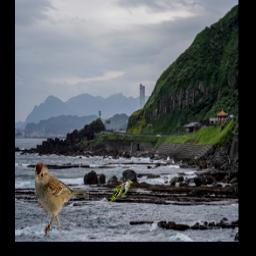Cuckoo: (108, 181, 134, 204)
Sparrow: (33, 160, 90, 238)
